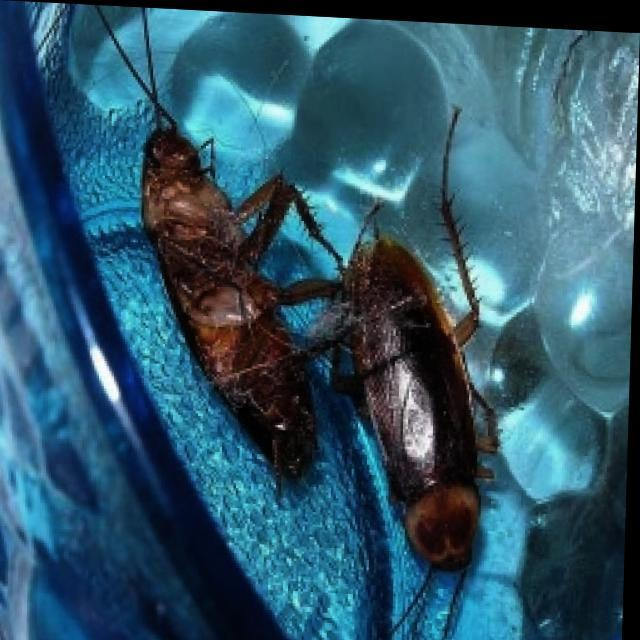cockroach: (121, 76, 338, 555), (327, 216, 519, 590)
